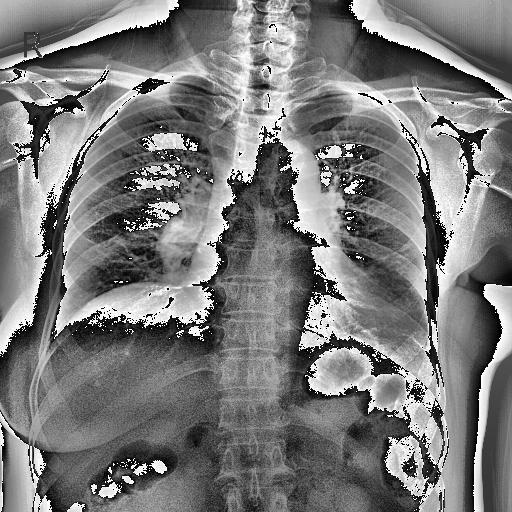0- Aortic enlargement: (264, 140, 321, 206), (257, 144, 322, 197)
13- Pulmonary fibrosis: (376, 240, 414, 262)
3- Cardiomegaly: (188, 251, 400, 336), (175, 266, 386, 346)
